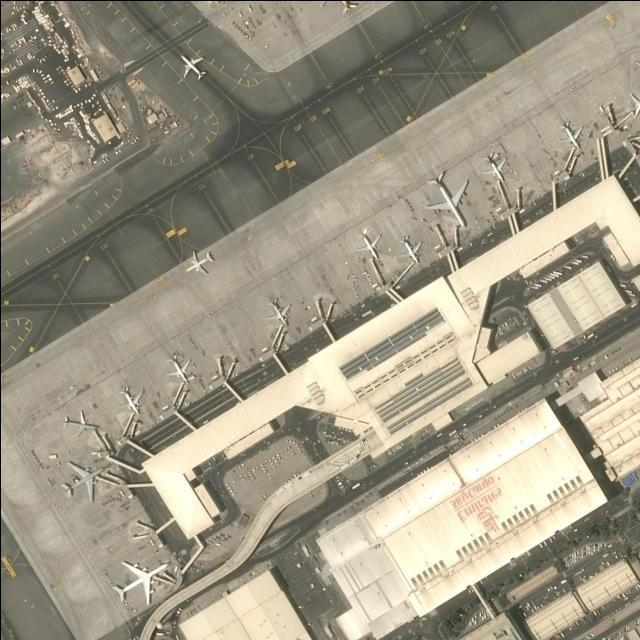Aircraft: (427, 163, 471, 227), (113, 555, 169, 605), (59, 453, 109, 500), (482, 149, 513, 181), (64, 406, 98, 433), (356, 228, 382, 260), (186, 245, 214, 274), (560, 119, 586, 150), (180, 49, 206, 79), (117, 383, 144, 411), (397, 235, 425, 261), (267, 295, 291, 323), (169, 351, 193, 379), (630, 86, 640, 114)
